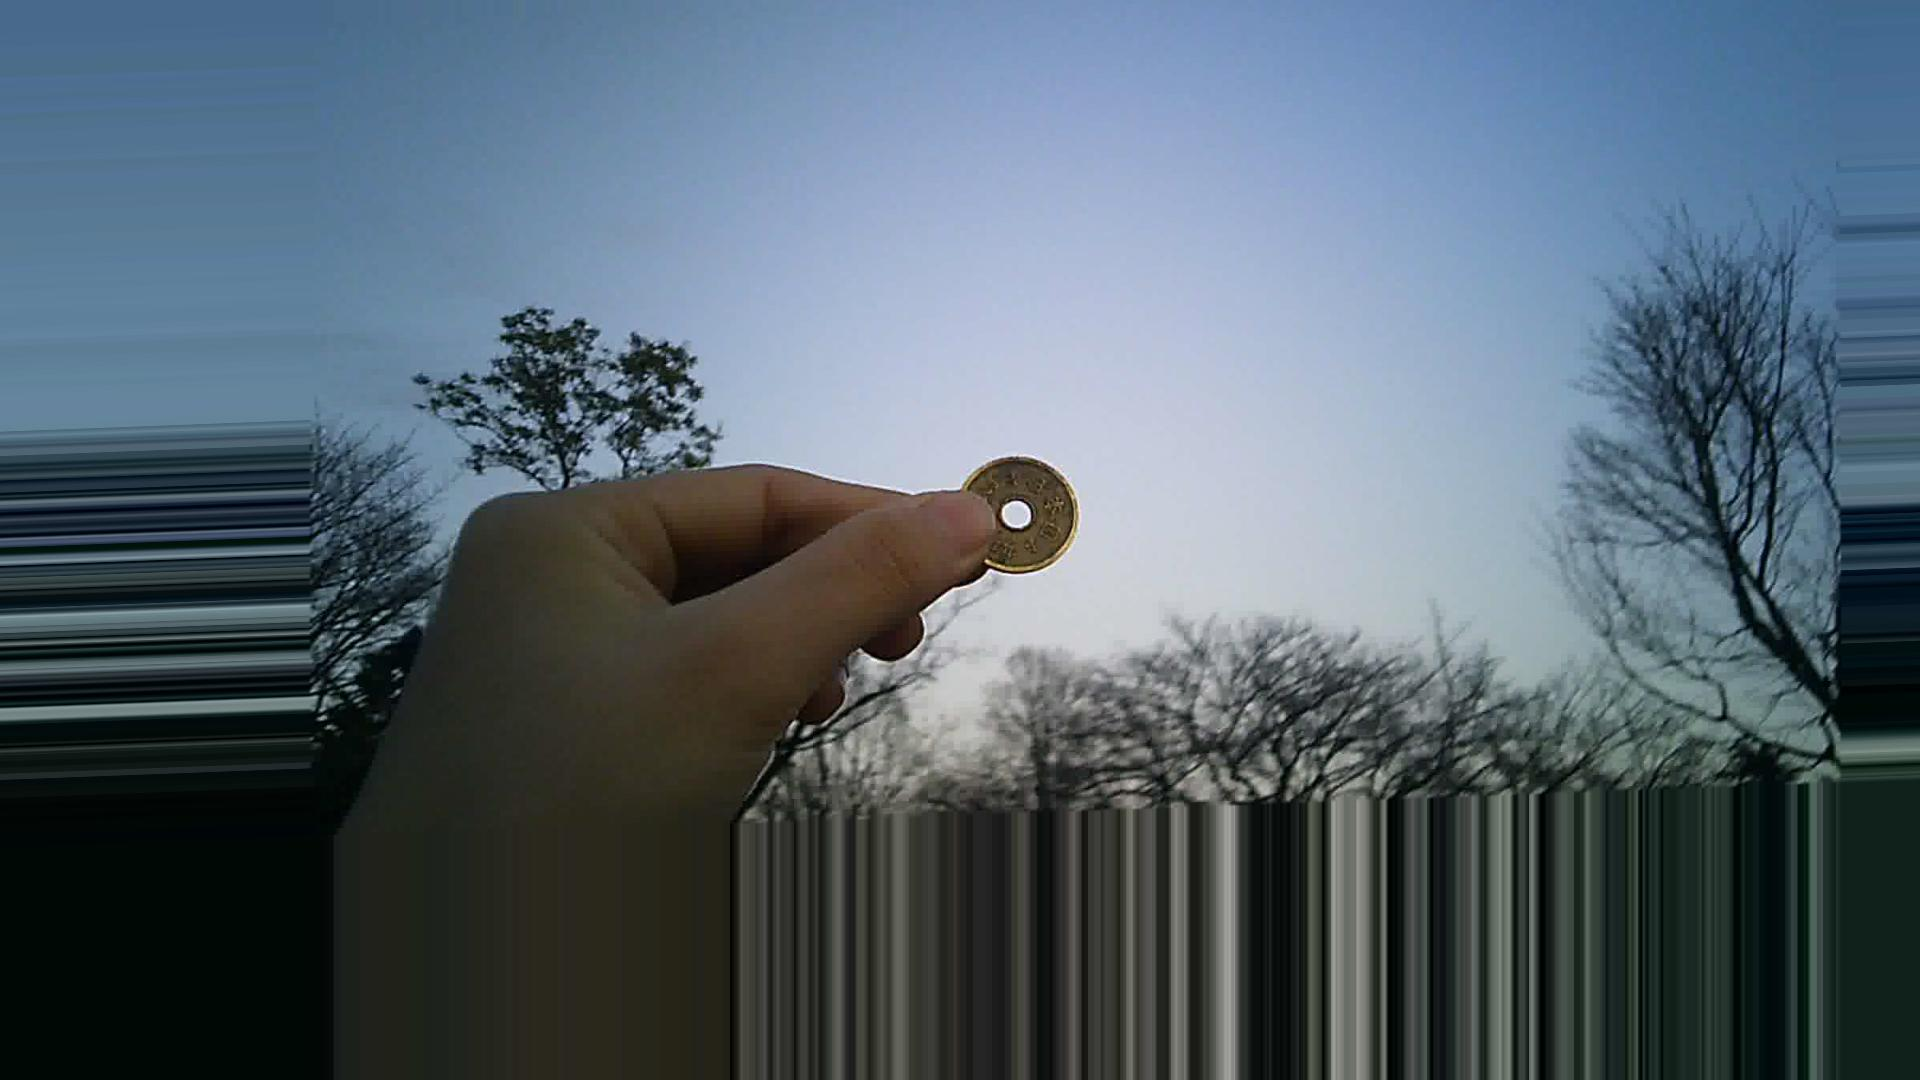5 Yen: (953, 444, 1076, 582)
